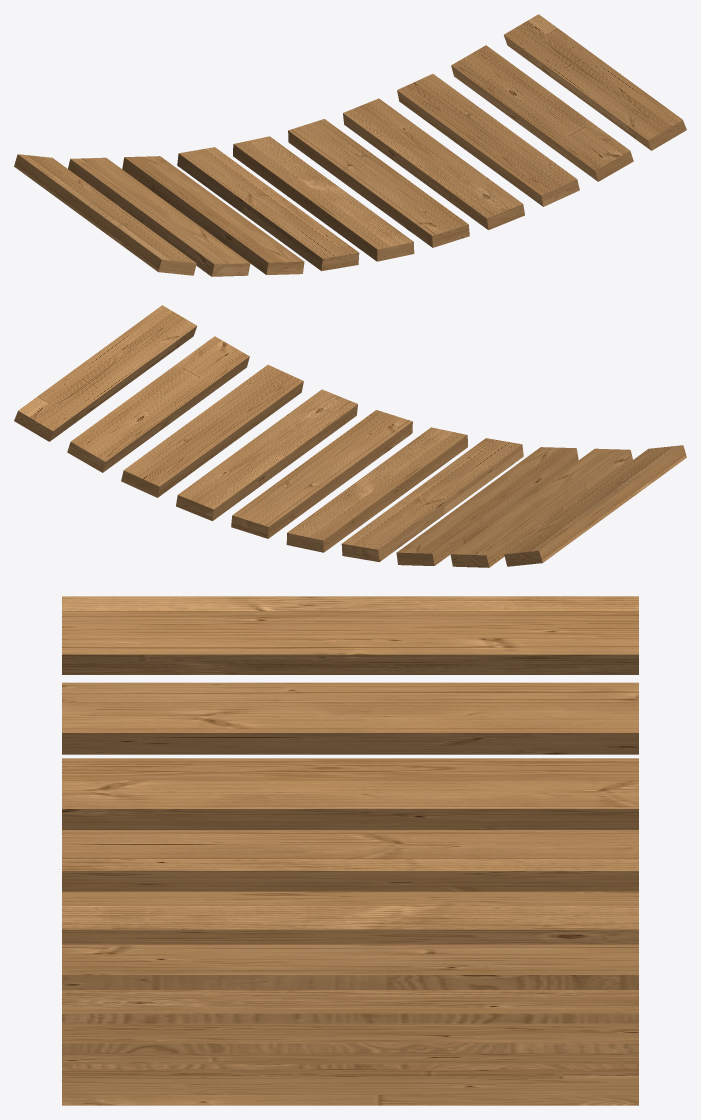
The model's file is playground_bridge.obj.
The picture shows the model from 3 angles, top to bottom: view 1: azimuth 30°, elevation 25°; view 2: azimuth 150°, elevation 25°; view 3: azimuth 270°, elevation 25°; orthographic projection. The views are drawn at different scales.
Parts seen in each view (by area): view 1: Cube.001; view 2: Cube.001; view 3: Cube.001.
Part boxes in pixels (x1=…): Cube.001: x1=14, y1=14, x2=686, y2=276; Cube.001: x1=14, y1=305, x2=686, y2=567; Cube.001: x1=62, y1=596, x2=638, y2=1105.
Size of the model in its own units: 0.7333 by 0.091 by 0.3464.
